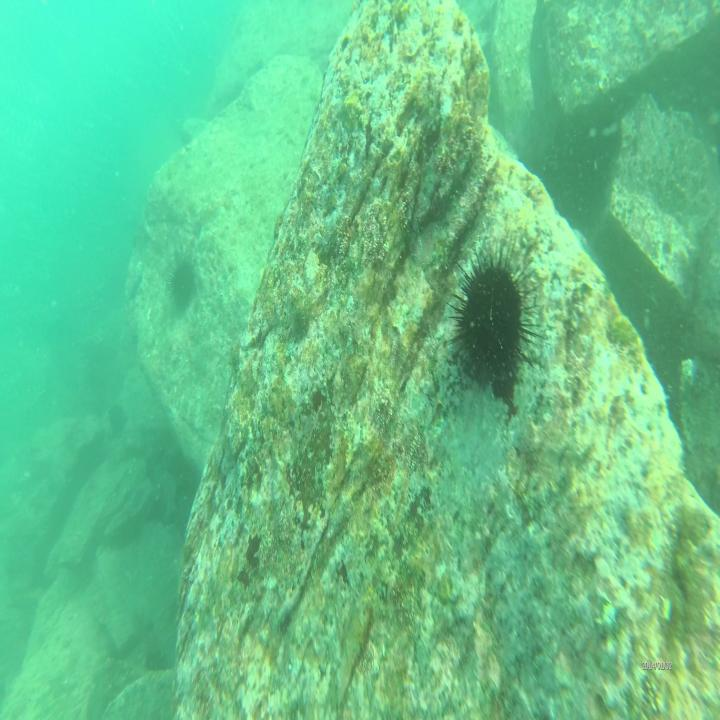echinus: (444, 230, 544, 392), (165, 249, 203, 318), (106, 397, 131, 446)
